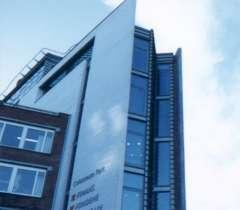building: (0, 0, 186, 210)
